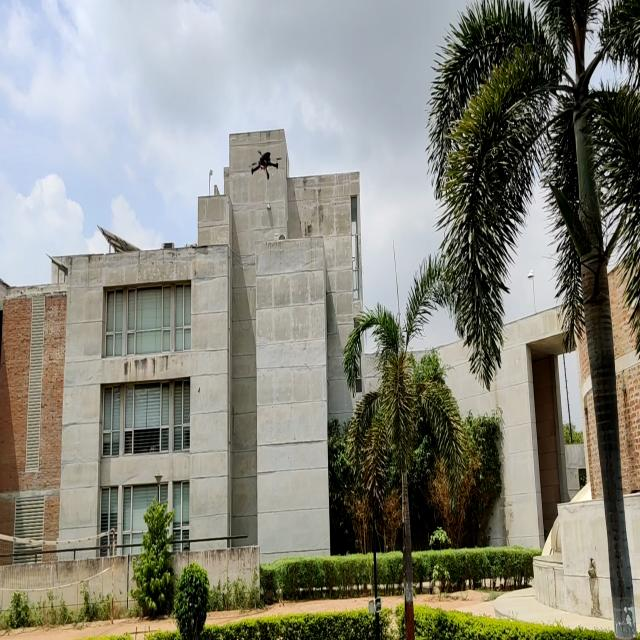drone: (243, 142, 284, 192)
